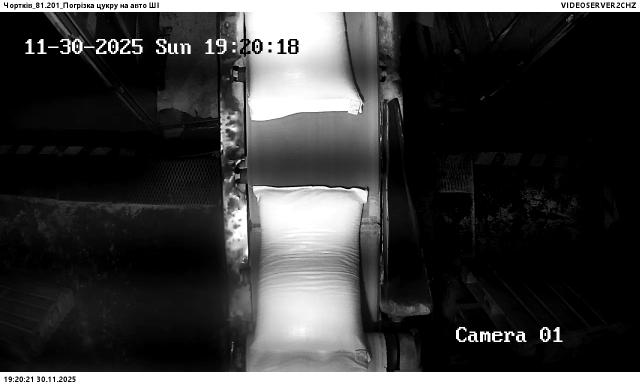bag: (254, 187, 373, 370), (245, 11, 363, 122)
